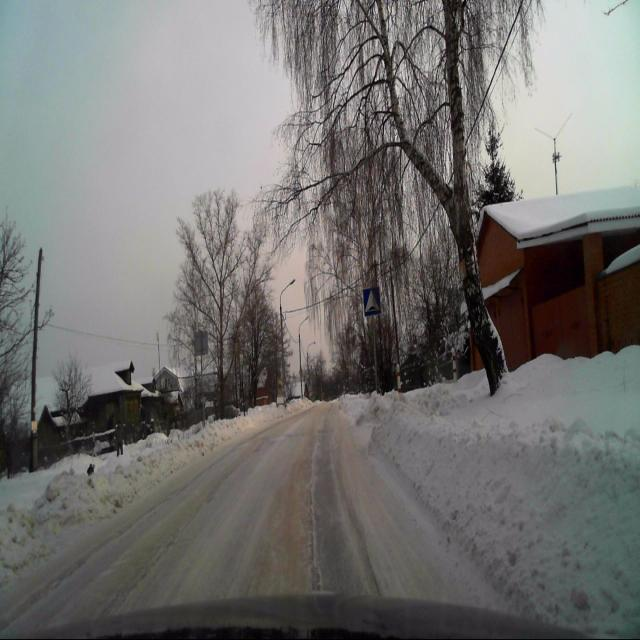road sign: (363, 286, 380, 316)
